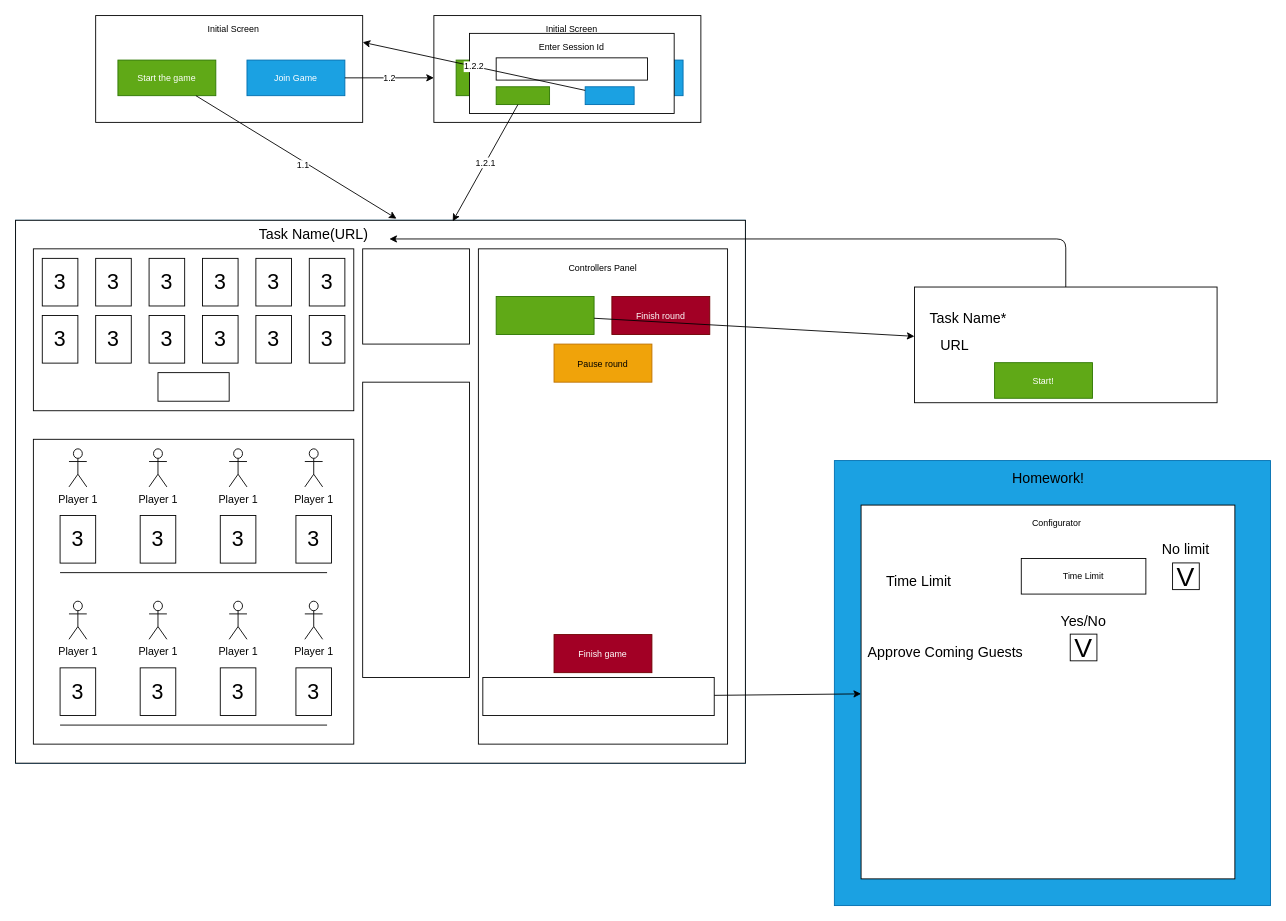
Image size: 1286x921. Some labels were removed from this diagram. Here are the shapes that lost their labels. From the top down, the centre of each, then its label:
point (522, 95): Enter
point (609, 95): Cancel
point (415, 296): Time counter
point (544, 315): Start round
point (193, 386): Vote
point (415, 529): Total Point: <Number with the biggest amount of voters>
point (598, 696): Configure the game settings
